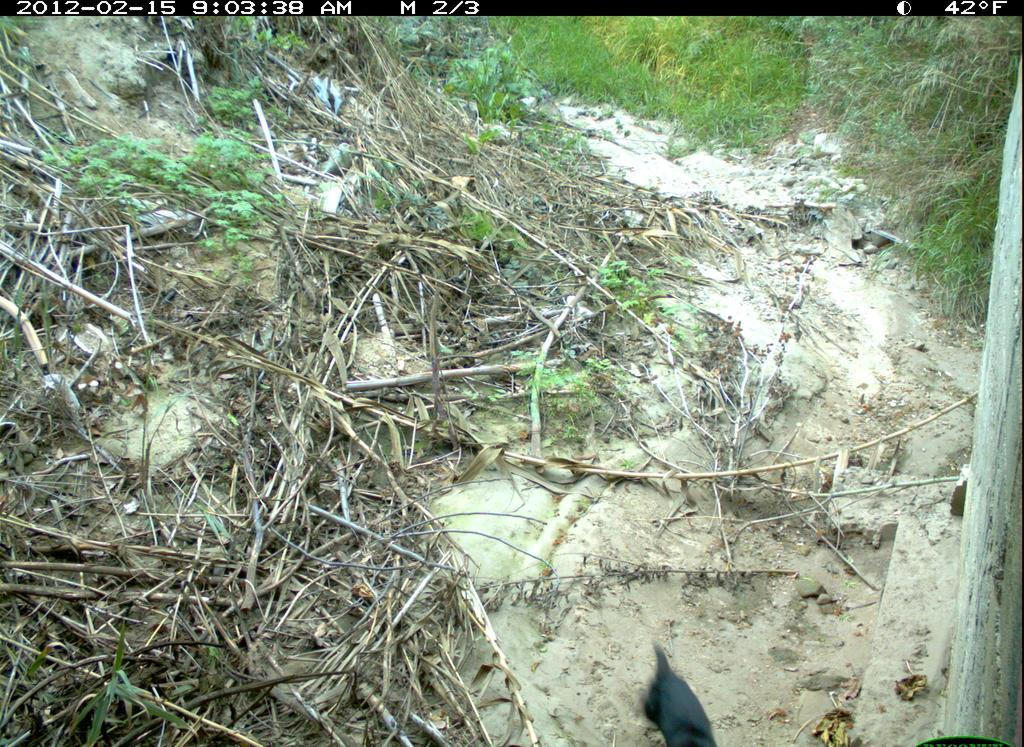cat: (616, 621, 729, 747)
